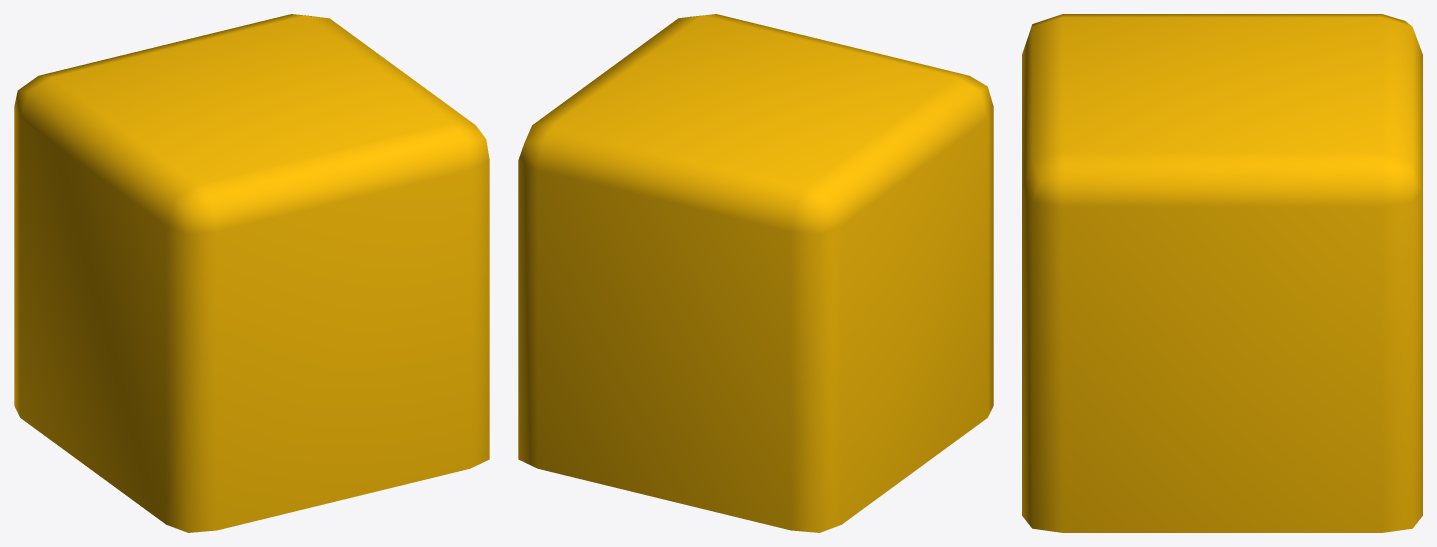
File: block_shapes_box_01.FBX
The picture shows the model from 3 angles, left to right: view 1: azimuth 30°, elevation 25°; view 2: azimuth 150°, elevation 25°; view 3: azimuth 270°, elevation 25°; orthographic projection. The views are drawn at different scales.
Visible parts, largest first — view 1: block_shapes_box_01; view 2: block_shapes_box_01; view 3: block_shapes_box_01.
Boxes of the visible parts, bbox=[...] form: block_shapes_box_01: bbox=[14, 14, 489, 532]; block_shapes_box_01: bbox=[518, 14, 993, 532]; block_shapes_box_01: bbox=[1022, 14, 1422, 532].
Bounding box in the file's own units: 329 × 329 × 329.
